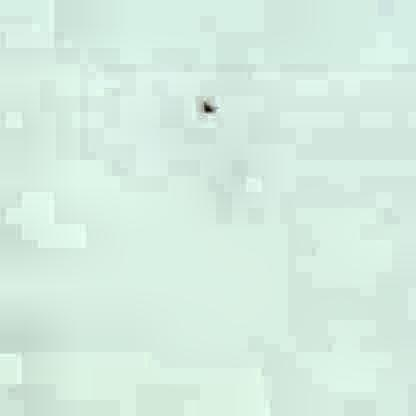golfball: (198, 95, 216, 113)
